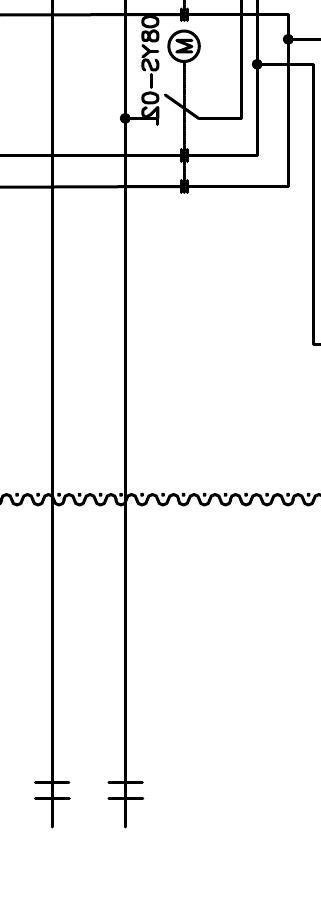115_1way_ds_w_motor: (155, 29, 202, 127)
115_buffer: (34, 781, 71, 800), (107, 781, 144, 800)
